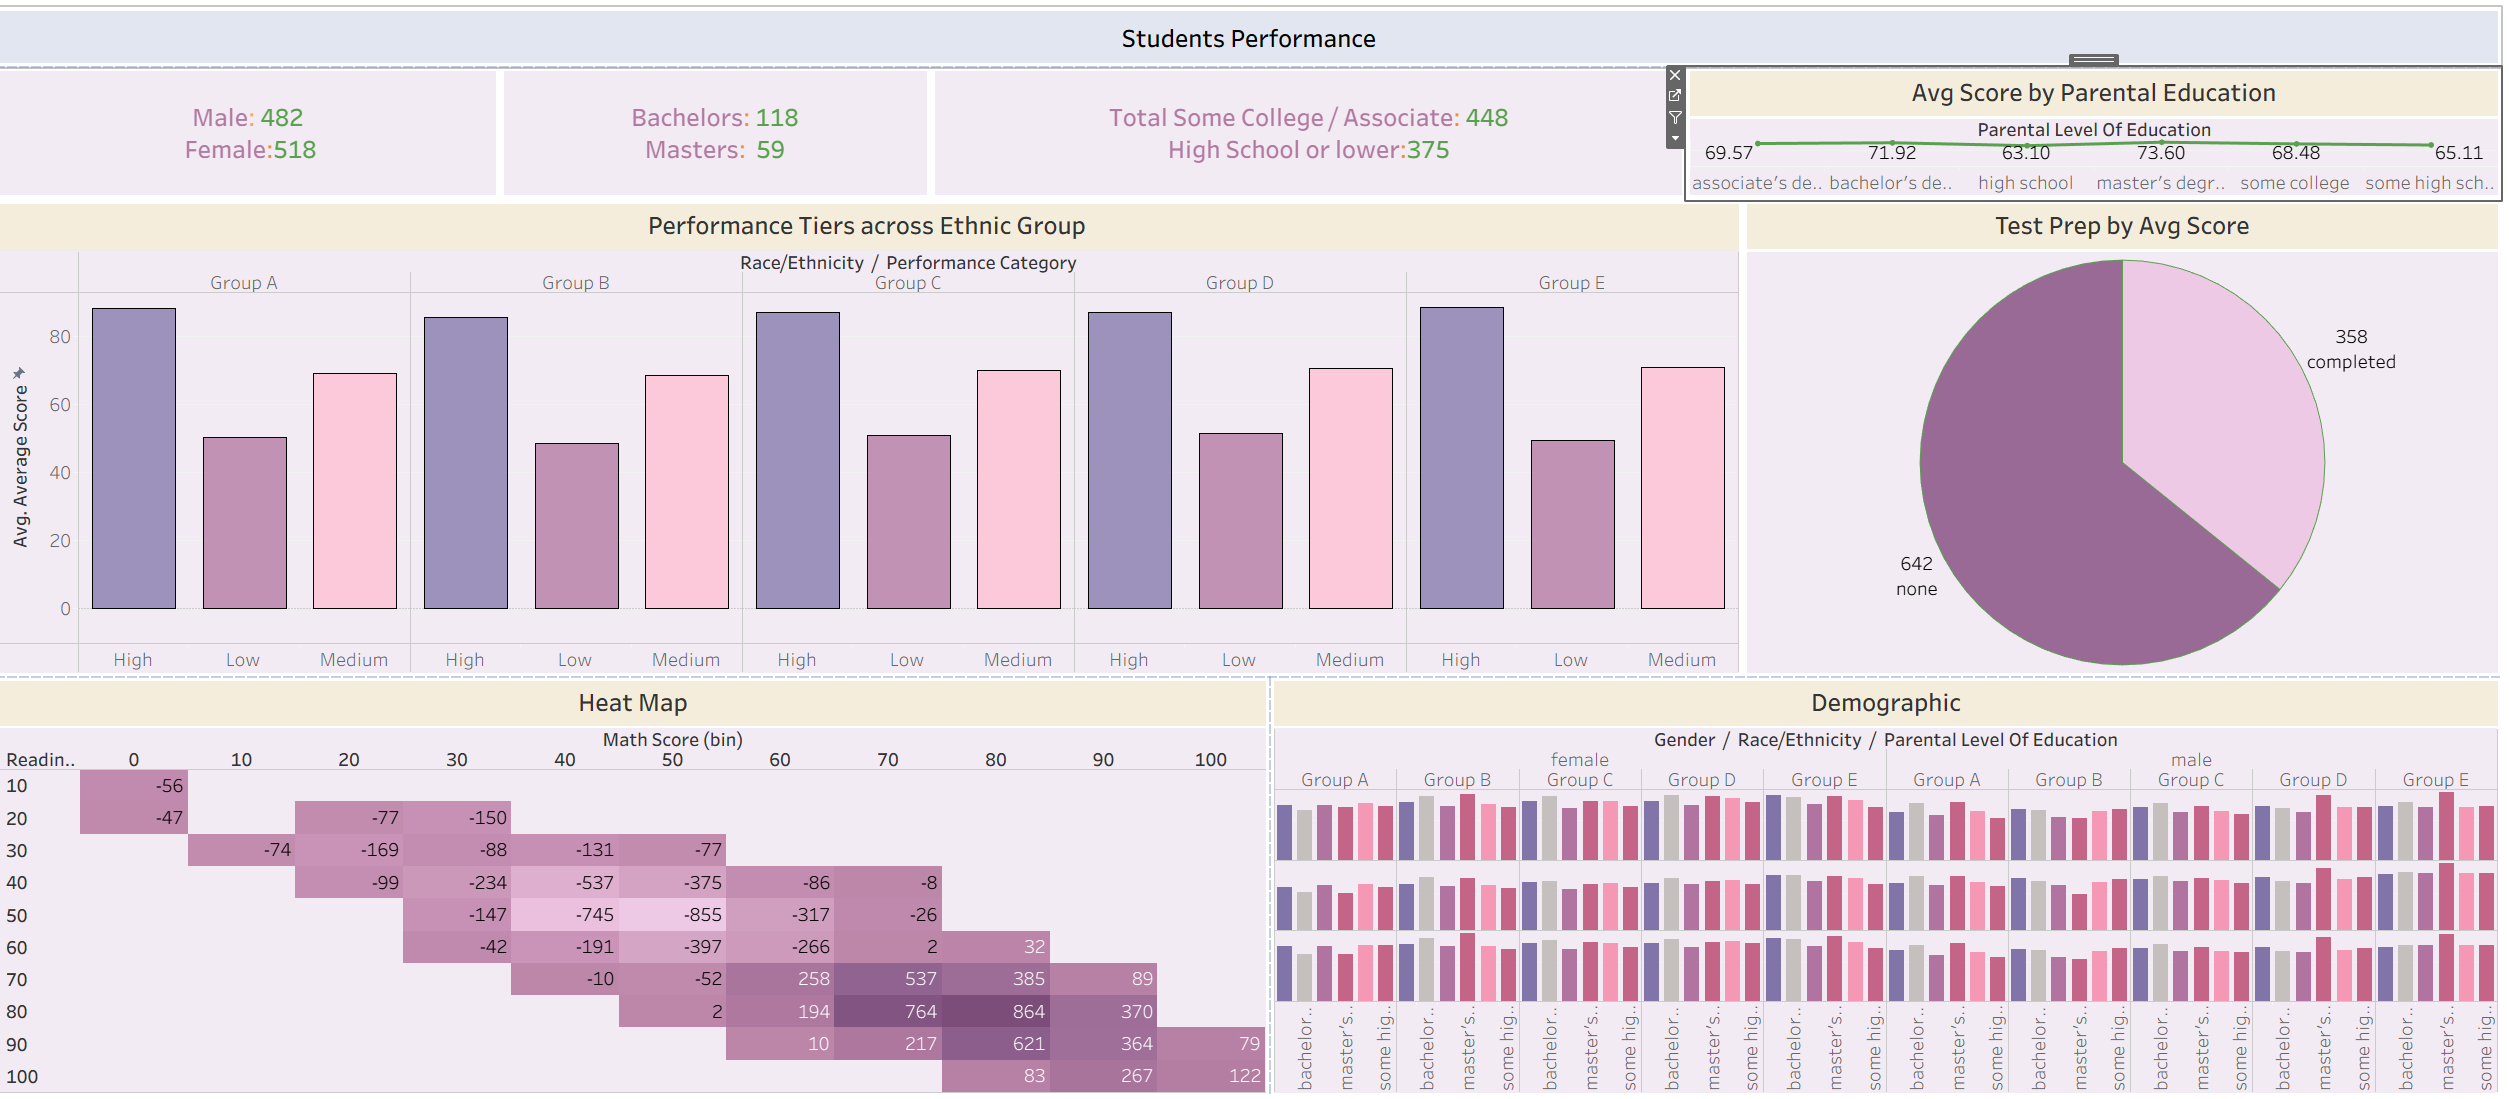

The dashboard page shown, as its layout file describes it:
{"tool":"tableau","page":{"name":"Dashboard 1","canvas":[1000,1000],"units":"permille","ordinal":0},"visuals":[{"type":"text","box":[3.2,7.2,993.7,54.7]},{"type":"worksheet","title":"Gender","mark":"Automatic","box":[3.2,61.9,199.7,173.2]},{"type":"worksheet","title":"Master and Bachelor","mark":"Automatic","box":[202.8,61.9,171,173.2]},{"type":"worksheet","title":"High School or lower and Associte","mark":"Automatic","box":[373.8,61.9,299.6,173.2]},{"type":"worksheet","title":"Avg Score by Parental Education","mark":"Line","rows":["average_score"],"cols":["parental level of education"],"box":[673.5,61.9,323.4,173.2]},{"type":"worksheet","title":"Performance Tiers across Ethnic Group ","mark":"Bar","rows":["average_score"],"cols":["race/ethnicity","performance_category"],"box":[3.2,235.1,692.6,377.8]},{"type":"worksheet","title":"Test Prep by Avg Score","mark":"Pie","box":[695.8,235.1,301.1,377.8]},{"type":"worksheet","title":"Heat Map","mark":"Square","rows":["Reading Score (bin)"],"cols":["Math Score (bin)"],"box":[3.2,612.8,505.3,379.9]},{"type":"worksheet","title":"Demographic","mark":"Bar","rows":["writing score","math score","reading score"],"cols":["gender","race/ethnicity","parental level of education"],"box":[508.5,612.8,488.4,379.9]}]}

Visuals, with their boxes on the dashboard's canvas, which has no fixed pixel size, in thousandths of its width and height (x1, y1, x2, y2). These are canvas units, not pixel positions in the 2509x1099 screenshot, which may show the page scaled, cropped or inside an application window:
text: <region>3, 7, 997, 62</region>
"Gender" worksheet: <region>3, 62, 203, 235</region>
"Master and Bachelor" worksheet: <region>203, 62, 374, 235</region>
"High School or lower and Associte" worksheet: <region>374, 62, 673, 235</region>
"Avg Score by Parental Education" worksheet (Line marks): <region>674, 62, 997, 235</region>
"Performance Tiers across Ethnic Group " worksheet (Bar marks): <region>3, 235, 696, 613</region>
"Test Prep by Avg Score" worksheet (Pie marks): <region>696, 235, 997, 613</region>
"Heat Map" worksheet (Square marks): <region>3, 613, 508, 993</region>
"Demographic" worksheet (Bar marks): <region>508, 613, 997, 993</region>
